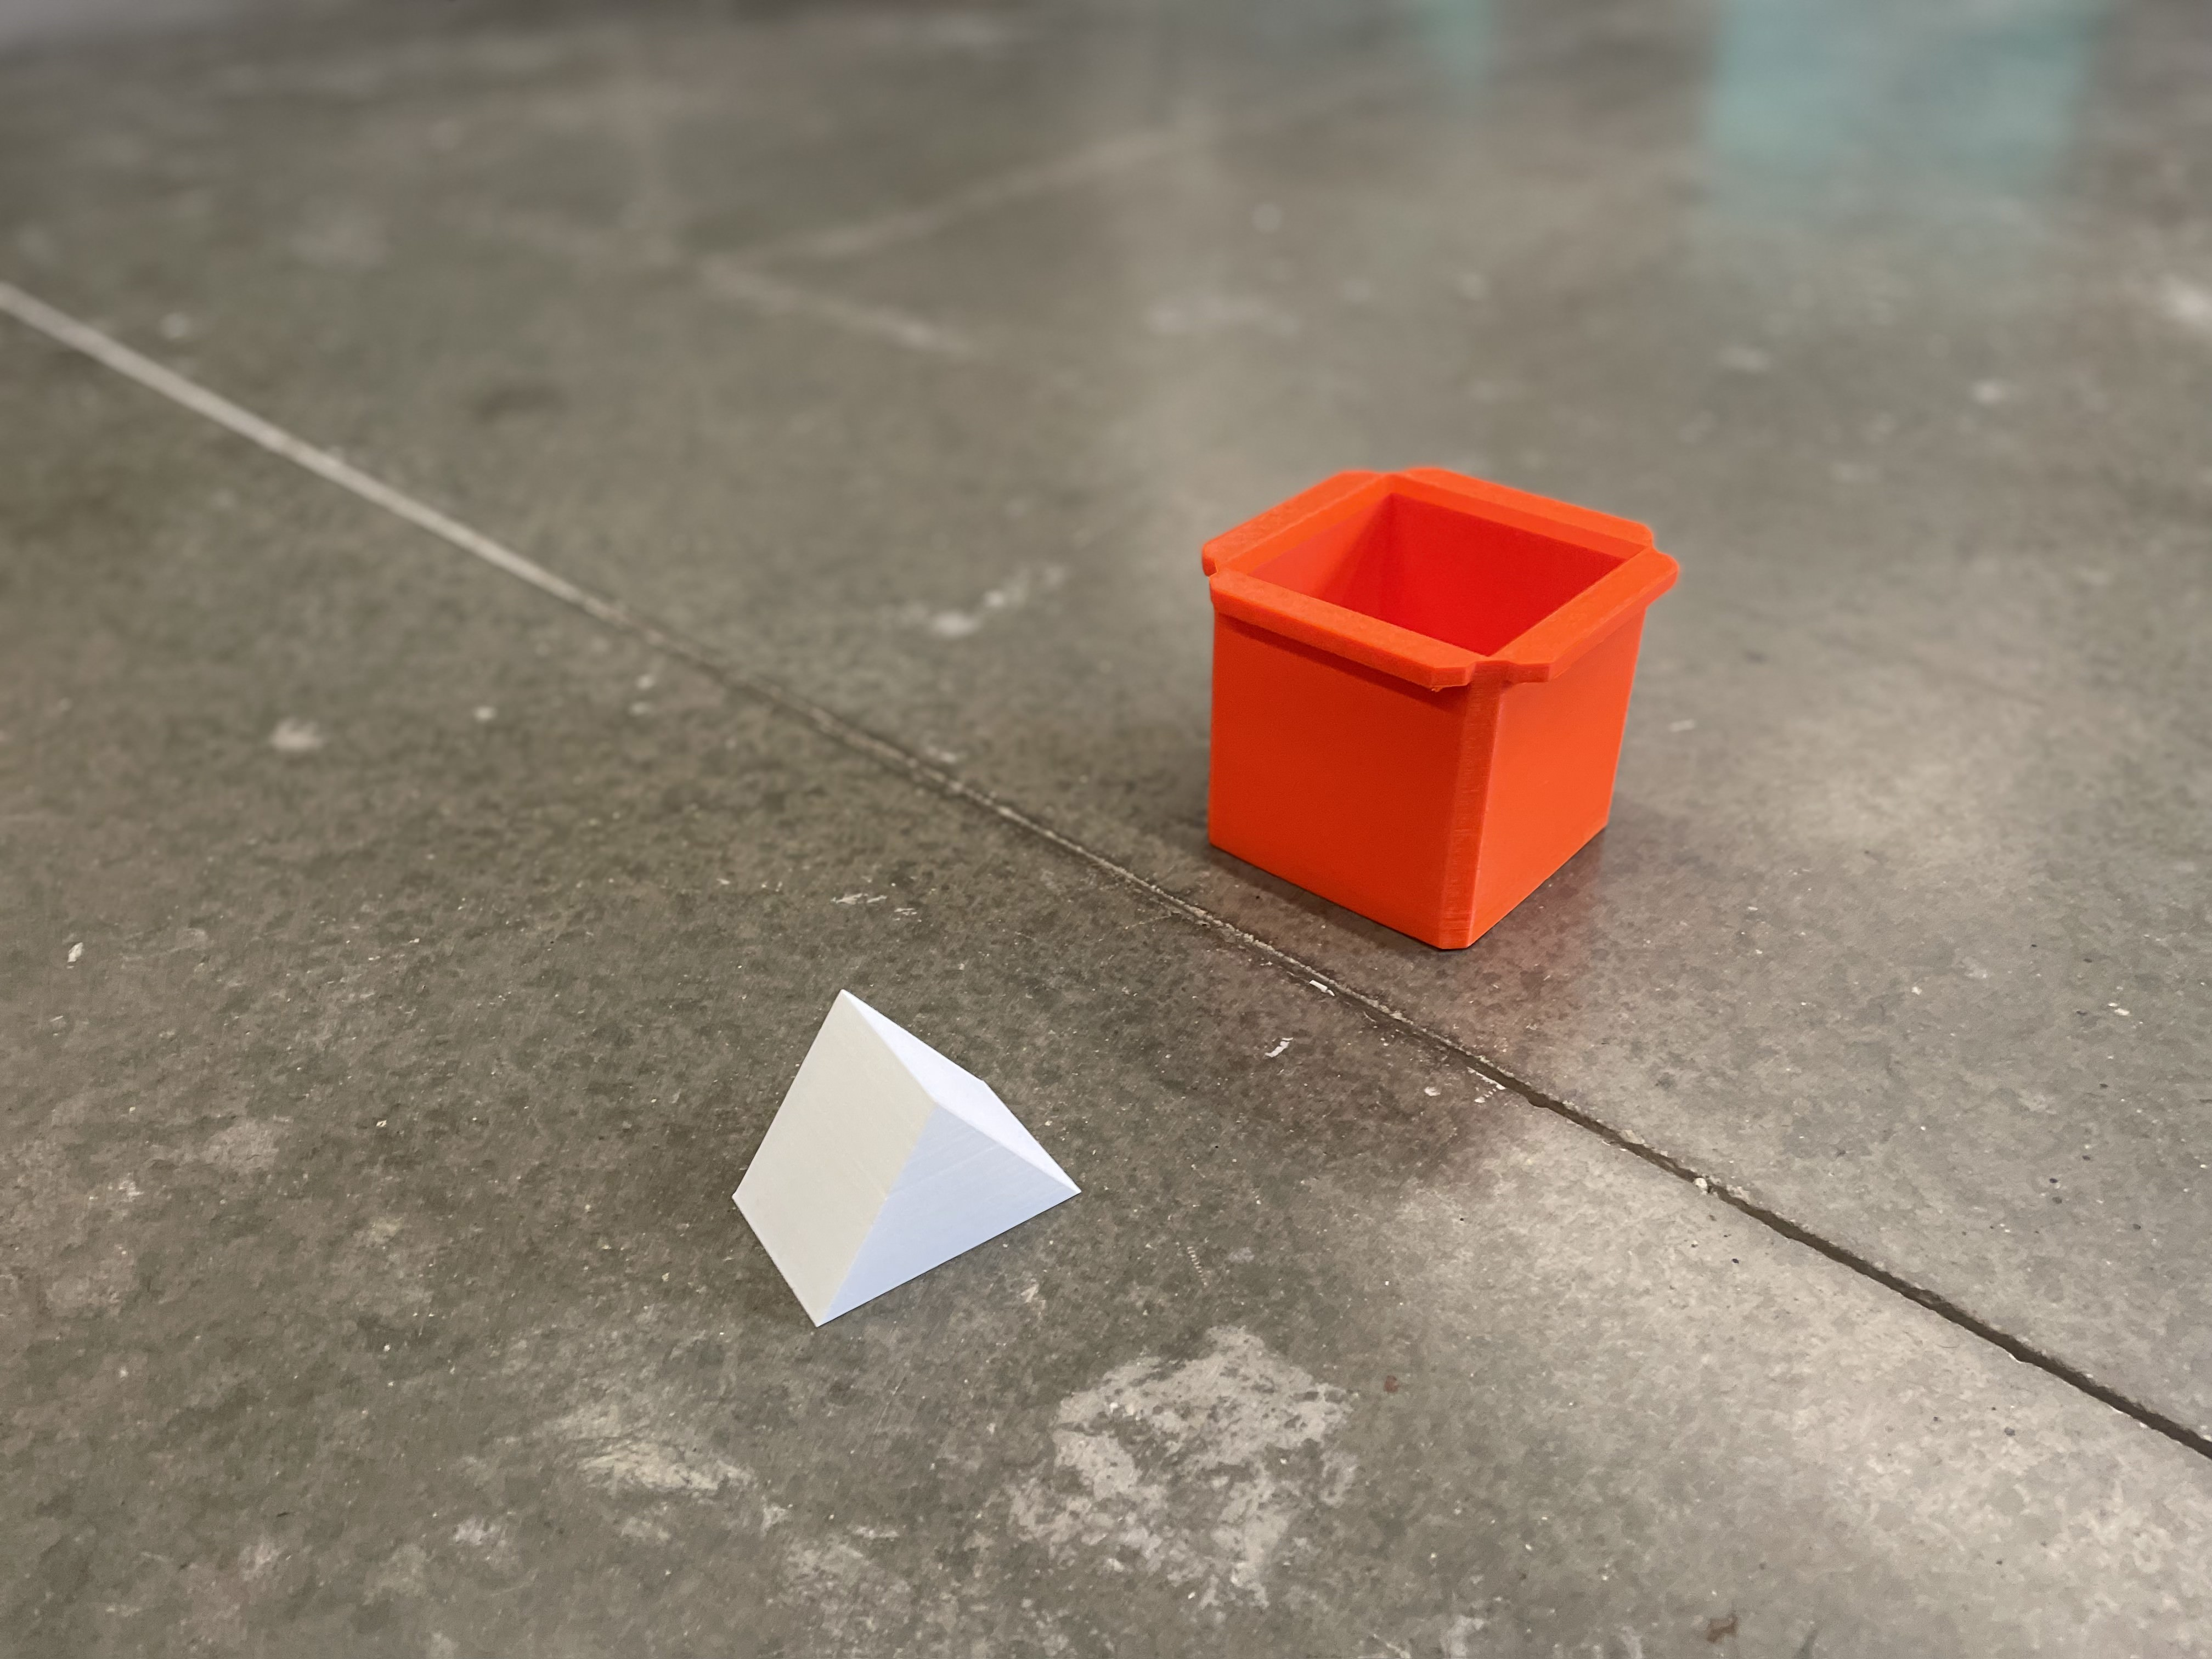payload1: (1160, 430, 1698, 967)
payload2: (693, 972, 1113, 1342)
